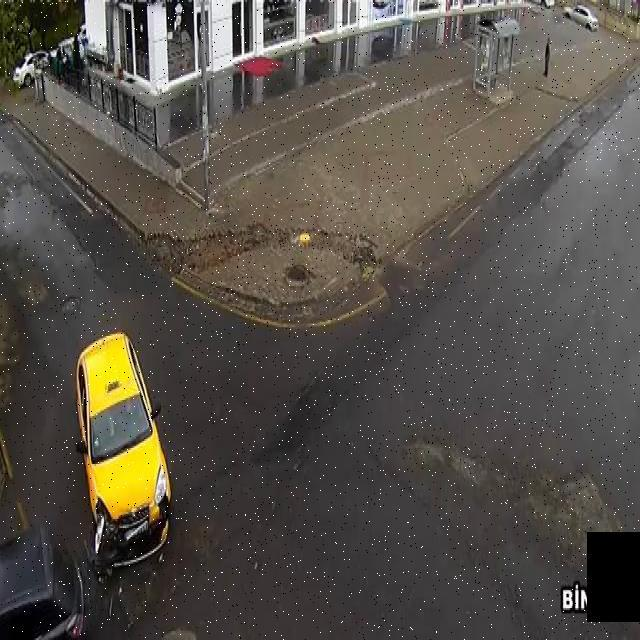moderate: (67, 325, 178, 585)
